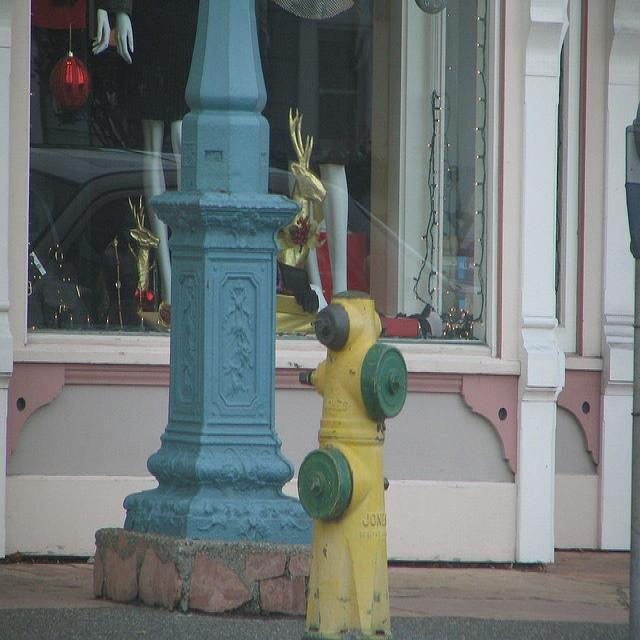fire_hydrant: (290, 285, 407, 631)
